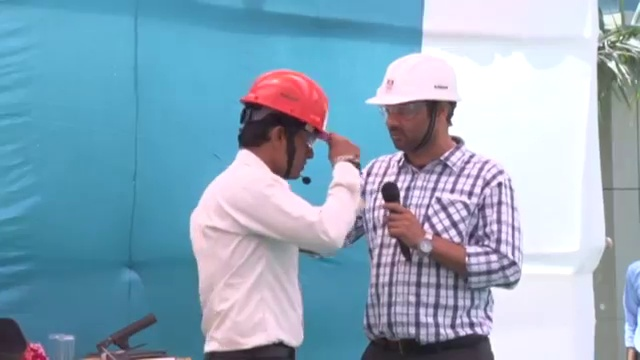helmet: (240, 66, 331, 140), (364, 52, 461, 107)
helmet_on: (362, 52, 462, 156), (241, 65, 329, 182)
person: (354, 52, 524, 360), (184, 66, 361, 360)
